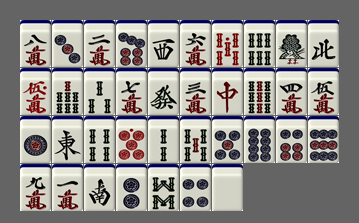0m: (20, 68, 51, 115)
0p: (116, 116, 147, 163)
0s: (212, 20, 243, 67)
1m: (52, 164, 83, 211)
1p: (20, 116, 51, 163)
1s: (276, 20, 307, 67)
1z: (52, 116, 83, 163)
2m: (84, 20, 115, 67)
2p: (116, 164, 147, 211)
2s: (148, 116, 179, 163)
2z: (84, 164, 115, 211)
3m: (180, 68, 211, 115)
3p: (52, 20, 83, 67)
3s: (84, 68, 115, 115)
3z: (148, 20, 179, 67)
4m: (276, 68, 307, 115)
4p: (180, 164, 211, 211)
4s: (84, 116, 115, 163)
4z: (308, 20, 339, 67)
5m: (308, 68, 339, 115)
5p: (212, 116, 243, 163)
5s: (180, 116, 211, 163)
5z: (212, 164, 243, 211)
6m: (180, 20, 211, 67)
6p: (276, 116, 307, 163)
6s: (244, 20, 275, 67)
6z: (148, 68, 179, 115)
7m: (116, 68, 147, 115)
7p: (116, 20, 147, 67)
7s: (52, 68, 83, 115)
7z: (212, 68, 243, 115)
8m: (20, 20, 51, 67)
8p: (244, 116, 275, 163)
8s: (148, 164, 179, 211)
9m: (20, 164, 51, 211)
9p: (308, 116, 339, 163)
9s: (244, 68, 275, 115)
